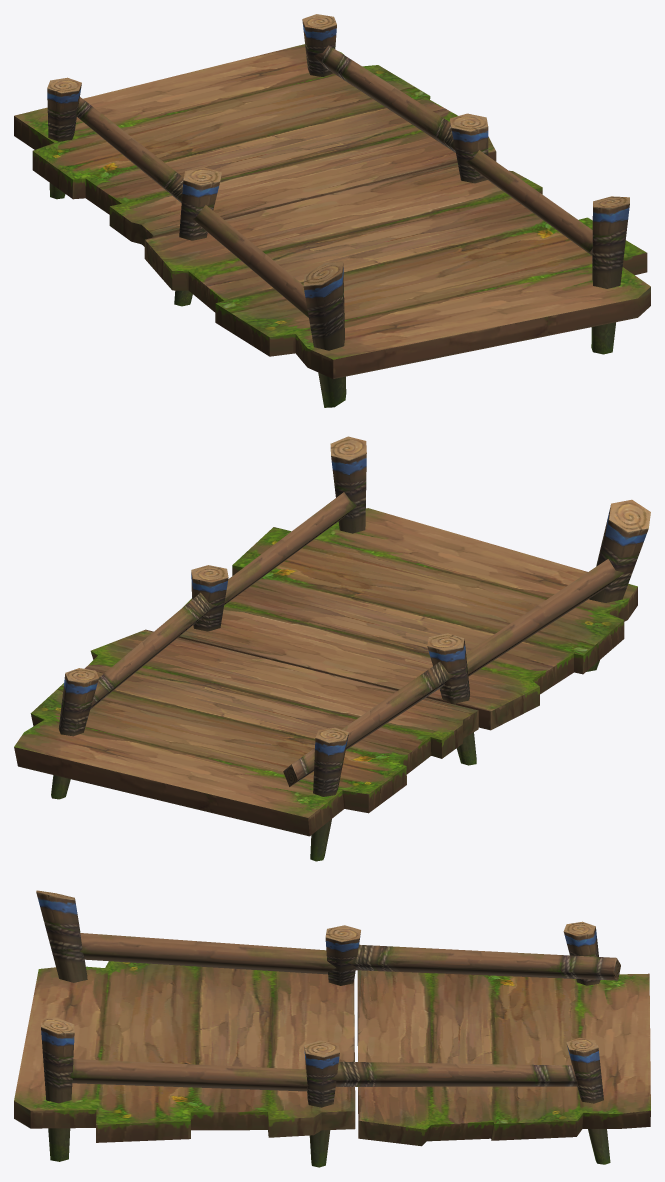
File: fb_lyhg_zj_19_c.FBX
3 views of the same model, one above another, from view 1: azimuth 30°, elevation 25°; view 2: azimuth 150°, elevation 25°; view 3: azimuth 270°, elevation 25° (orthographic). The views are drawn at different scales.
Visible parts, largest first — view 1: fb_lyhg_zj_19_c; view 2: fb_lyhg_zj_19_c; view 3: fb_lyhg_zj_19_c.
Boxes of the visible parts, left/top/right/bottom form: fb_lyhg_zj_19_c: left=14, top=14, right=650, bottom=407; fb_lyhg_zj_19_c: left=14, top=436, right=650, bottom=861; fb_lyhg_zj_19_c: left=14, top=890, right=650, bottom=1167.
Size of the model in its own units: 408 by 160 by 629.
